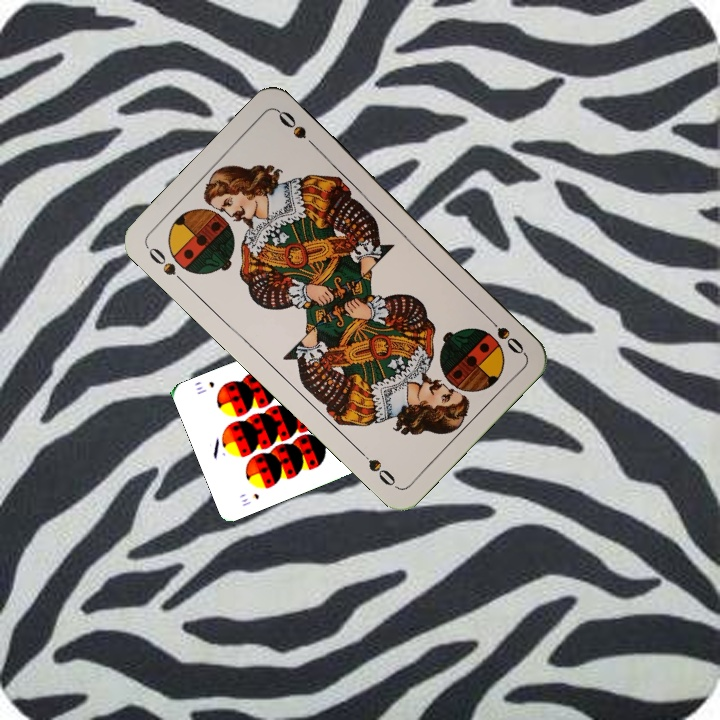S10: (237, 489, 262, 509)
SO: (480, 310, 527, 357), (143, 242, 190, 288)
